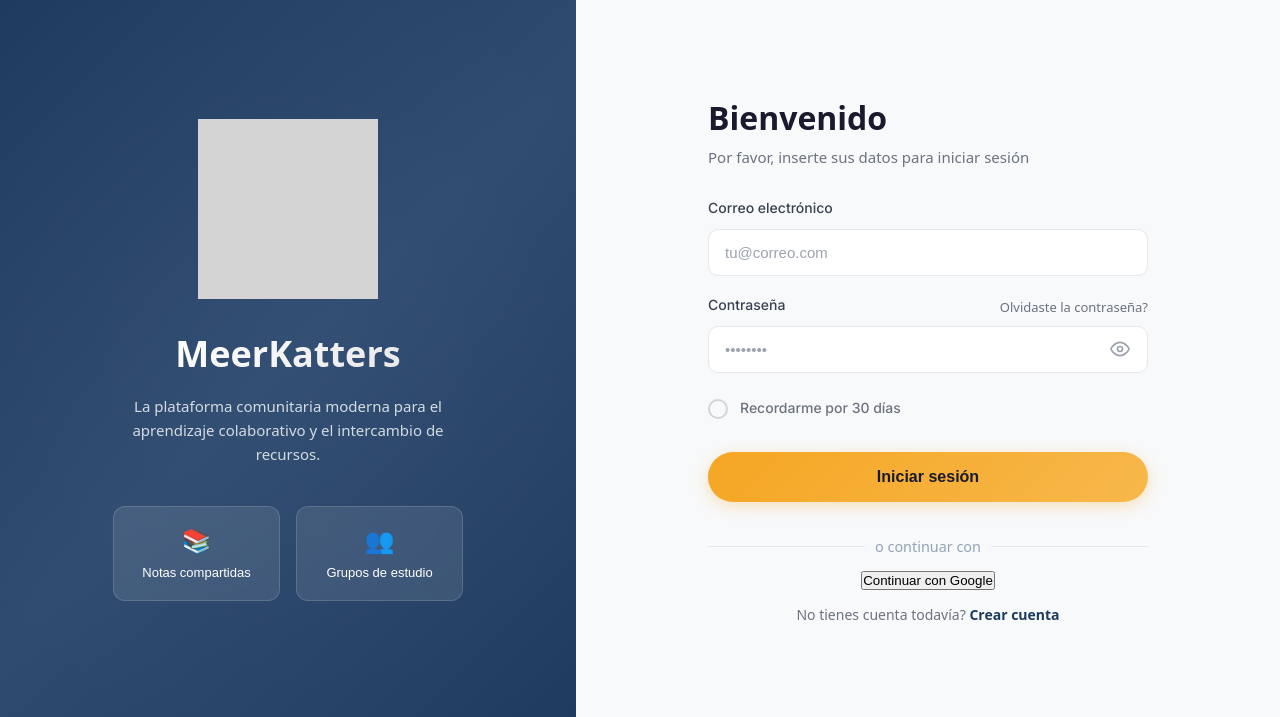
Scenario: Login › resend verification failure shows error
The image size is (1280, 717).
Type "user@test.com" into the field with placeholder "tu@correo.com" at (928, 253), box top-left (708, 229), bottom-right (1148, 276)
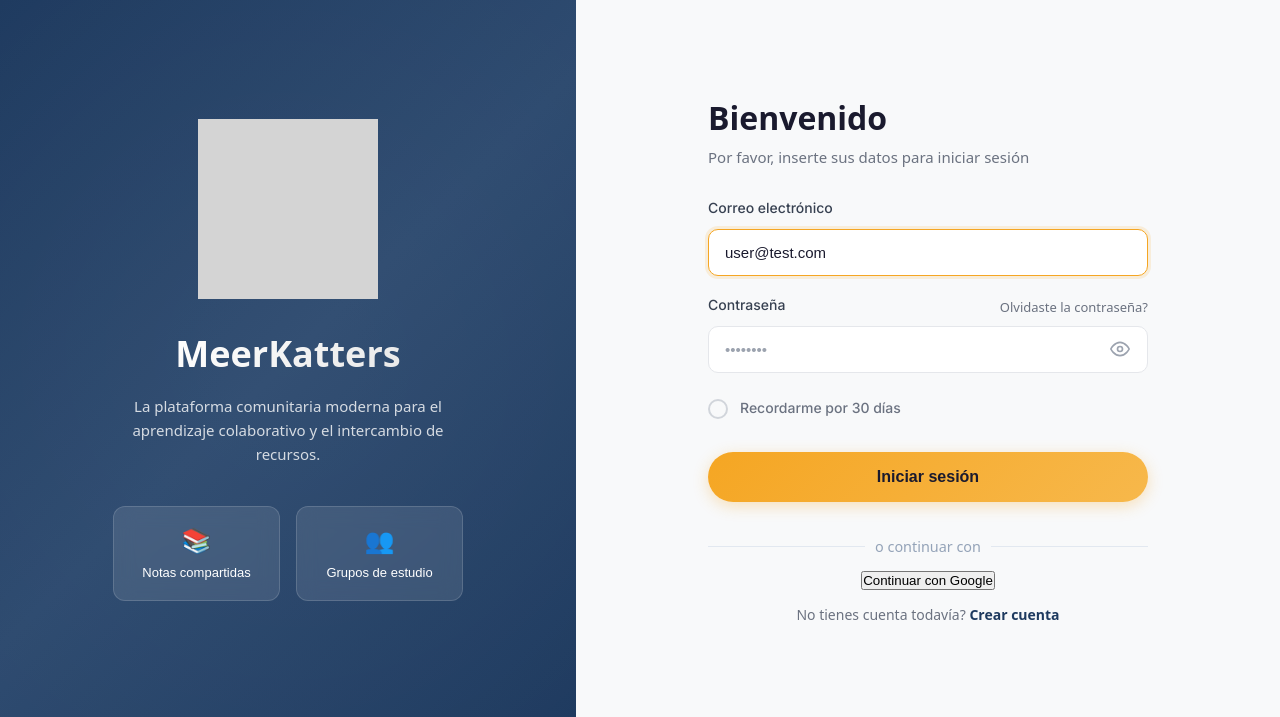
Type "pass123" into the password field with placeholder "••••••••" at (928, 349), box top-left (708, 326), bottom-right (1148, 373)
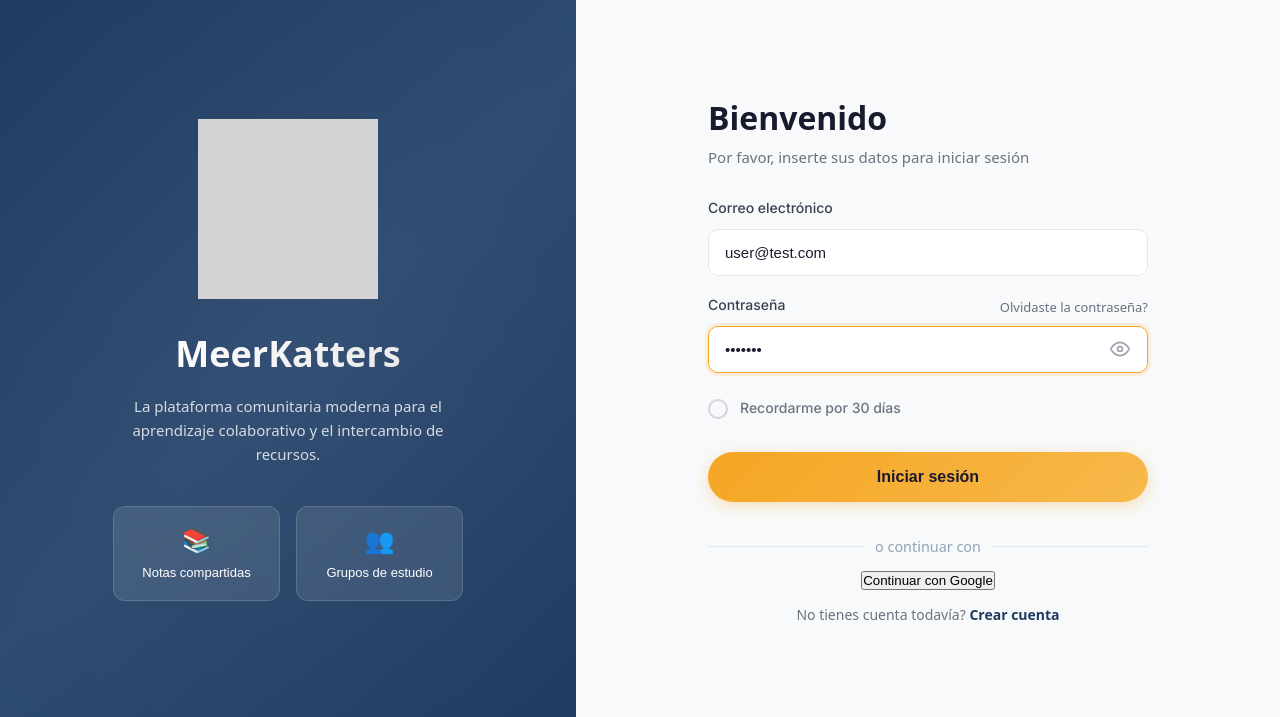
Click the button "Iniciar sesión" at (928, 477), box top-left (708, 452), bottom-right (1148, 502)
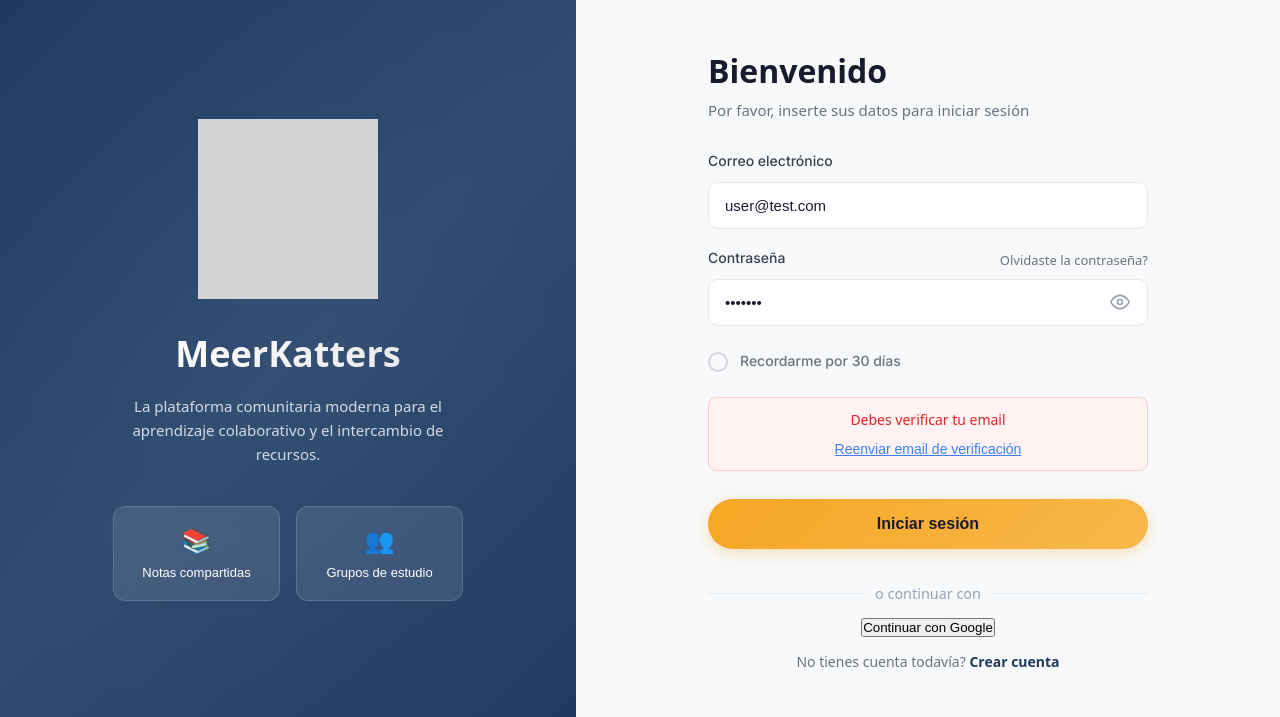
Expected: the button "Reenviar email de verificación" is shown
Click the button "Reenviar email de verificación" at (928, 449), box top-left (835, 441), bottom-right (1021, 457)
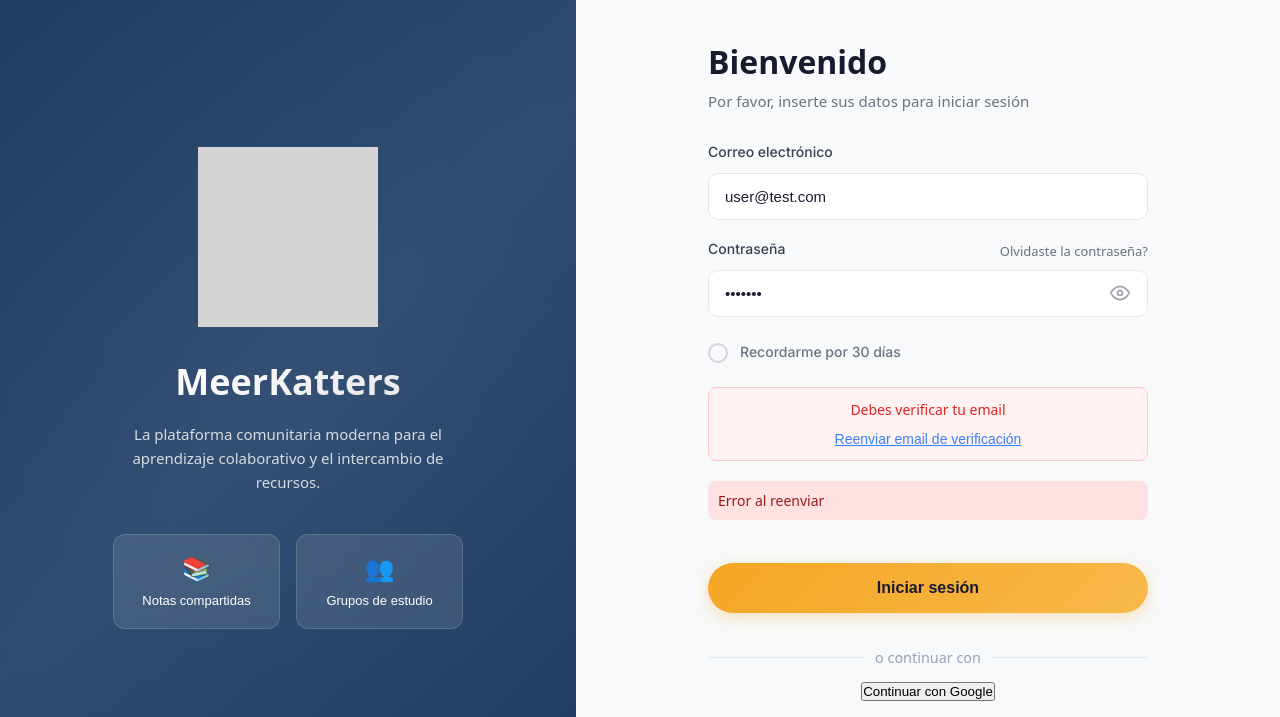
Expected: the text "Error al reenviar" is shown, top-left (708, 481), bottom-right (1148, 520)
